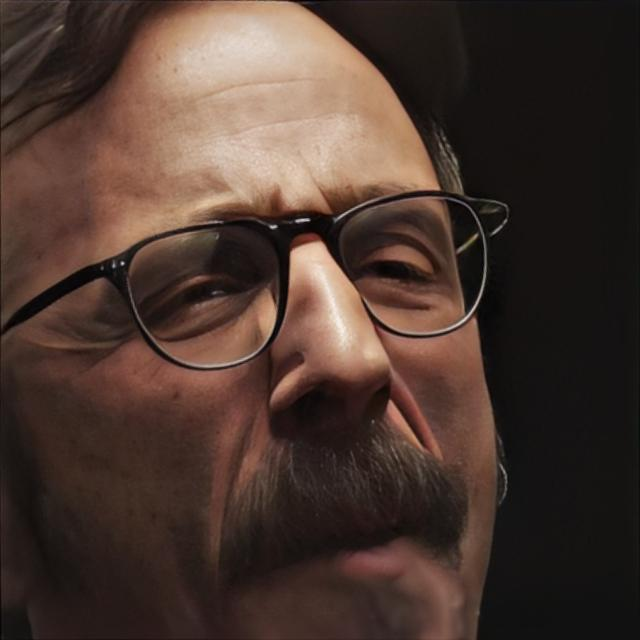anger: (58, 24, 492, 639)
